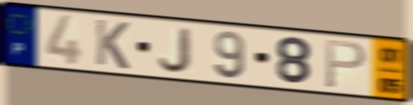4: (43, 13, 84, 68)
8: (274, 36, 313, 86)
9: (212, 29, 246, 81)
J: (157, 26, 195, 75)
K: (93, 17, 131, 72)
P: (324, 38, 369, 91)
